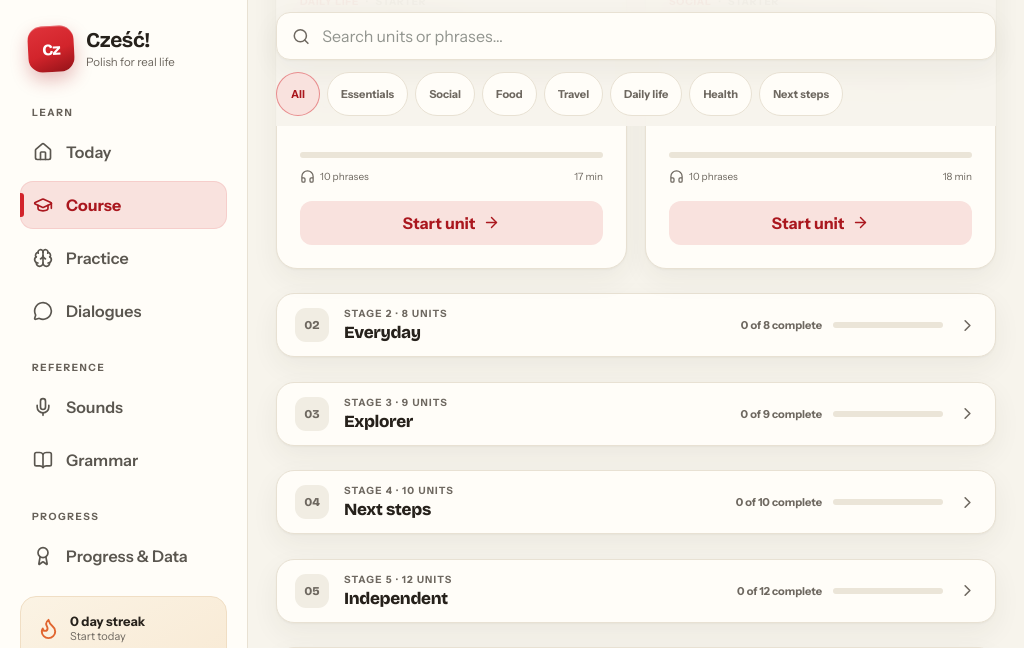
Scenario: guided learning flow › groups the course into stage sections with only the frontier stage open
The width and height of the screenshot is (1024, 648).
(page scrolled)
Click the button "02 STAGE 2 · 8 UNITS Everyday 0 of 8 complete". click: (312, 325)
box: [276,293,996,357]
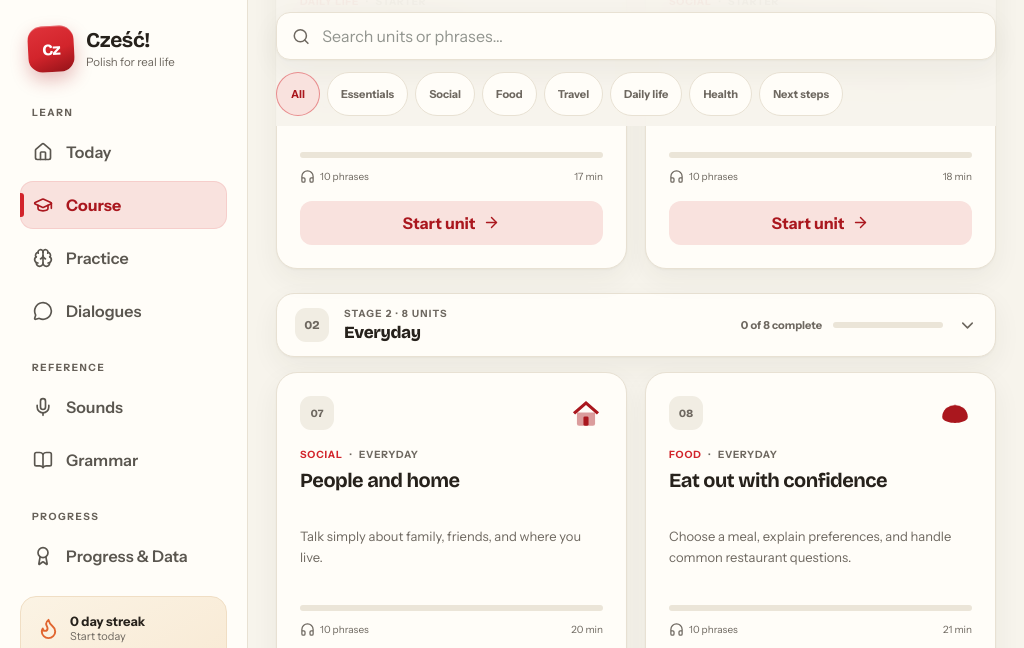
Result: the button "02 STAGE 2 · 8 UNITS Everyday 0 of 8 complete" is expanded at [276,293,996,357]
